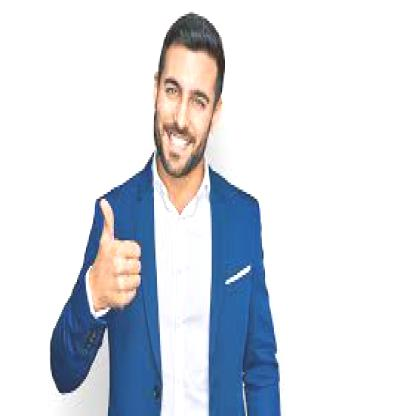Thumbs up: (89, 193, 144, 326)
